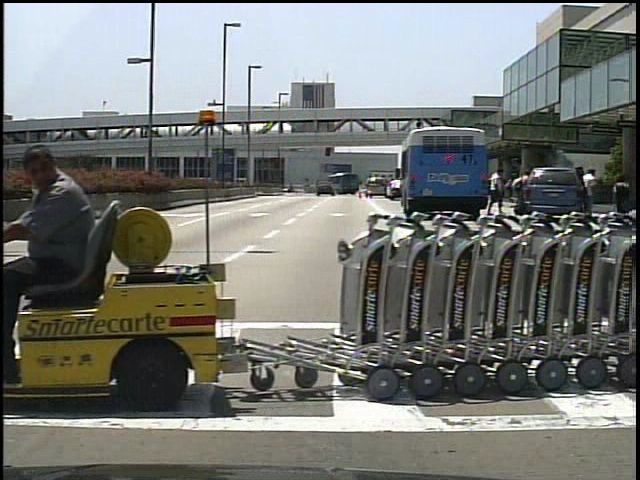person: (6, 146, 112, 386), (509, 167, 530, 219), (580, 165, 601, 214), (488, 166, 508, 217)
